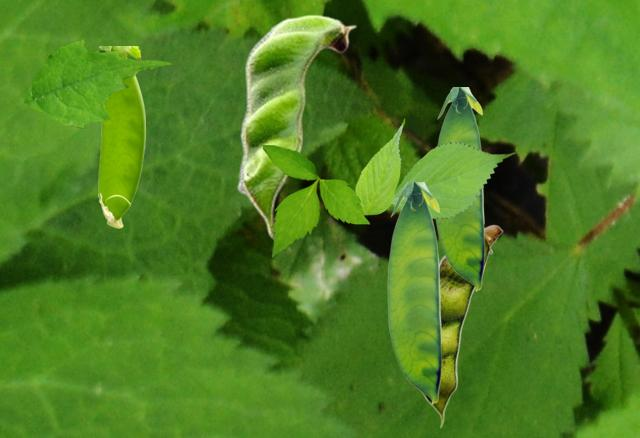pea: (236, 14, 356, 239), (420, 224, 502, 427), (387, 182, 440, 403), (435, 87, 483, 290), (98, 46, 144, 227)
